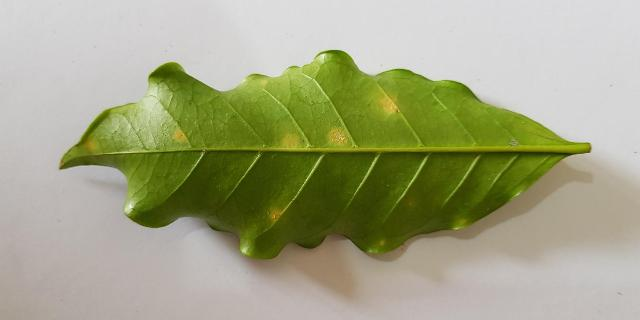miner: (379, 94, 400, 114), (328, 128, 348, 145), (282, 135, 301, 151), (172, 127, 186, 142), (270, 210, 283, 221), (83, 139, 93, 149), (378, 239, 386, 246)
